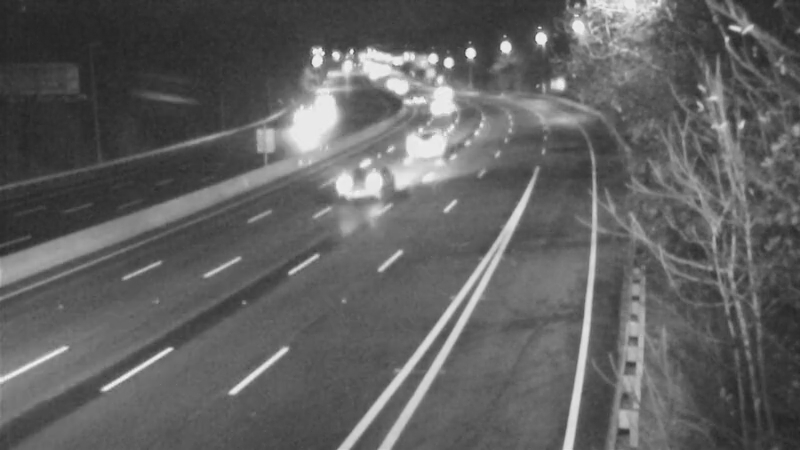vehicle: (330, 142, 410, 222), (373, 61, 423, 111), (413, 66, 463, 116), (395, 76, 445, 126), (410, 82, 460, 132), (395, 117, 445, 167), (281, 100, 331, 150)
